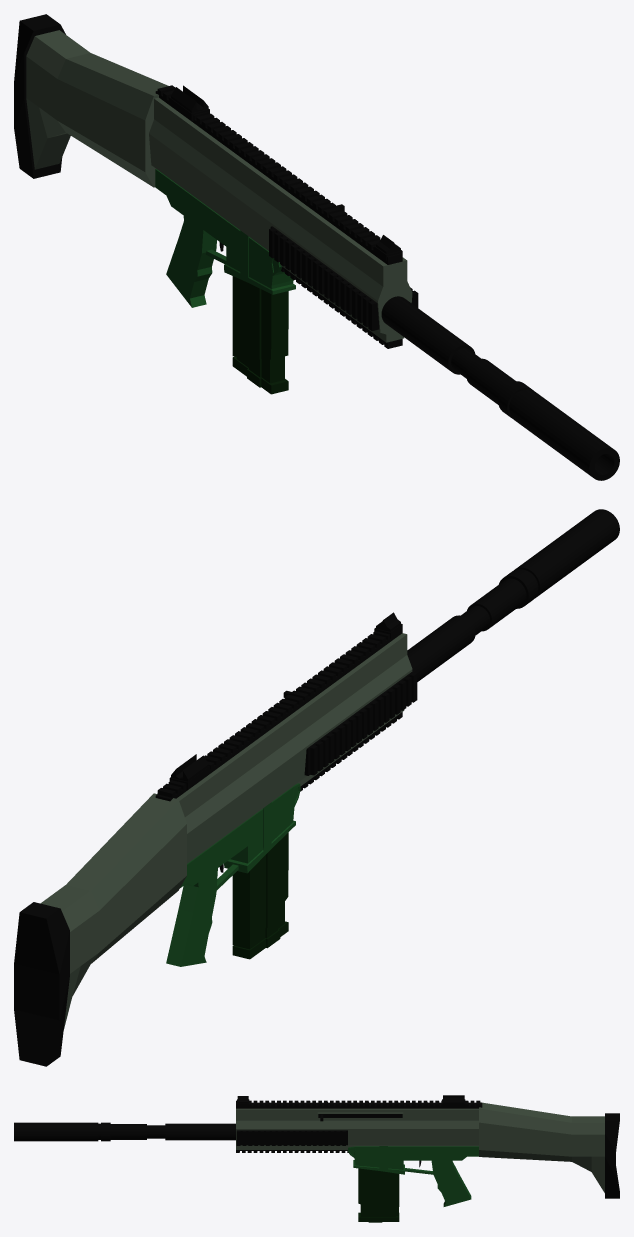
The model's file is Gun2.fbx.
The picture shows the model from 3 angles, top to bottom: view 1: azimuth 30°, elevation 25°; view 2: azimuth 150°, elevation 25°; view 3: azimuth 270°, elevation 25°; orthographic projection. The views are drawn at different scales.
Parts seen in each view (by area): view 1: hontai, stock, 円柱, handle, magazine, site2; view 2: hontai, stock, 円柱, handle, magazine, site2; view 3: hontai, stock, 円柱, handle, magazine, site2.
Part boxes in pixels (x1,y1,x2,y2): hontai: (149,85,418,348); stock: (14,14,168,187); 円柱: (381,296,619,480); handle: (155,169,295,307); magazine: (232,276,288,394); site2: (169,85,209,121); hontai: (155,630,417,863); stock: (14,793,186,1066); 円柱: (407,509,619,681); handle: (166,783,300,966); magazine: (232,832,288,959); site2: (169,754,209,789); hontai: (236,1100,482,1152); stock: (479,1102,619,1198); 円柱: (14,1122,235,1141); handle: (347,1146,478,1206); magazine: (358,1168,399,1222); site2: (442,1095,465,1107).
Bounding box in the file's own units: 155 × 666 × 2955.
